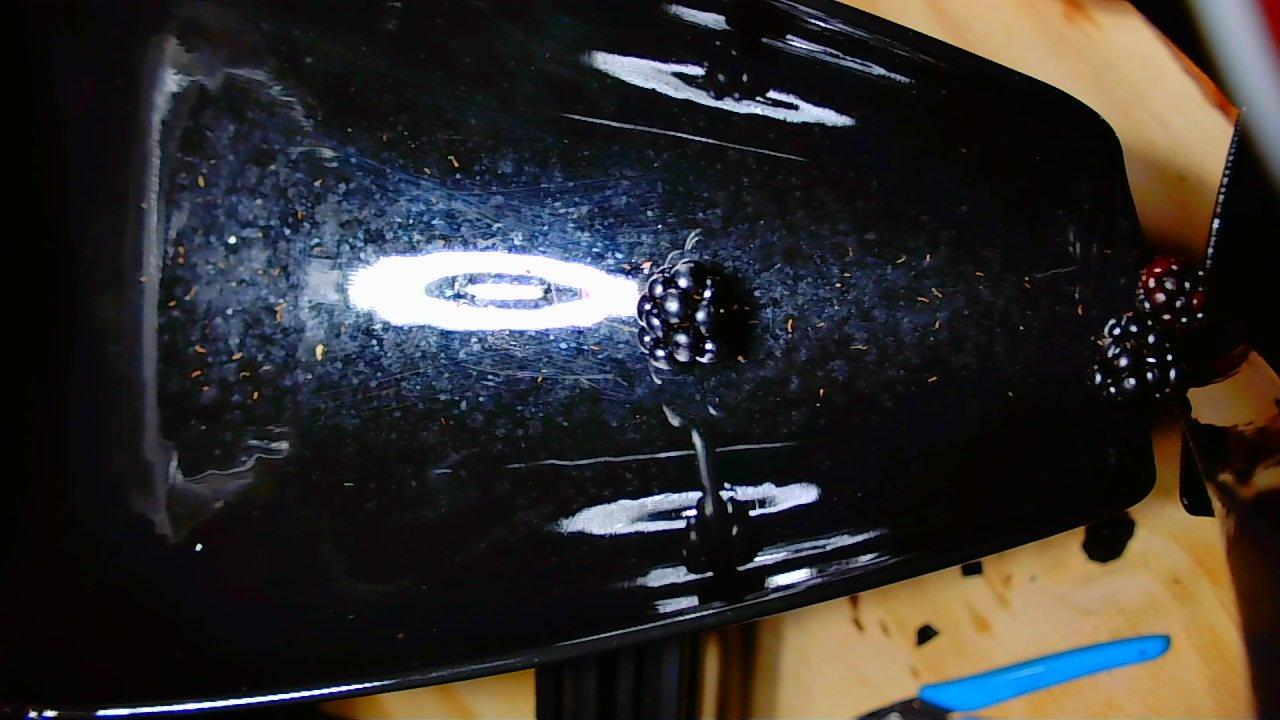berry: (637, 259, 724, 369), (1091, 312, 1187, 399), (1138, 255, 1203, 328)
